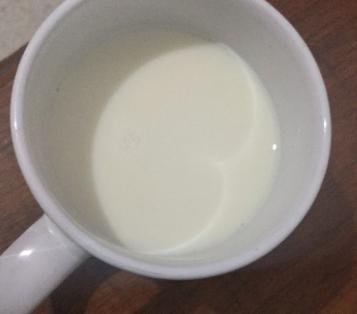produk_susu: (54, 14, 286, 257)
